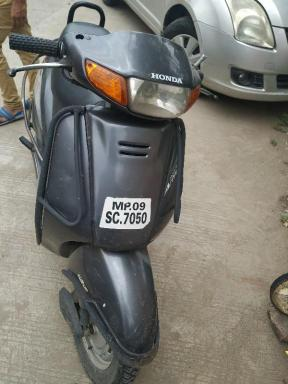doublelinenumberplate: (97, 197, 151, 229)
